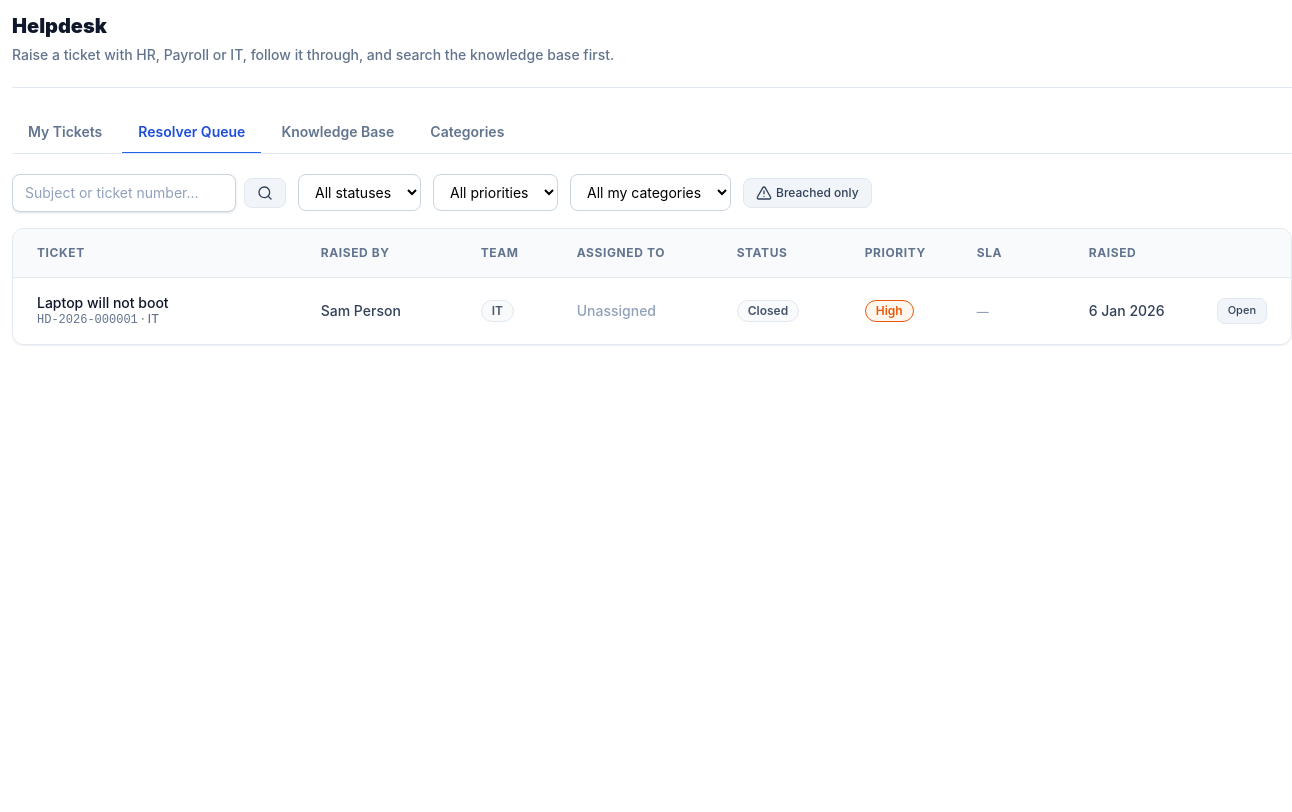
Test: the ticket detail › a closed ticket takes no more comments
Click the button "Open" at point(1242, 311), box [1217,298,1267,324]
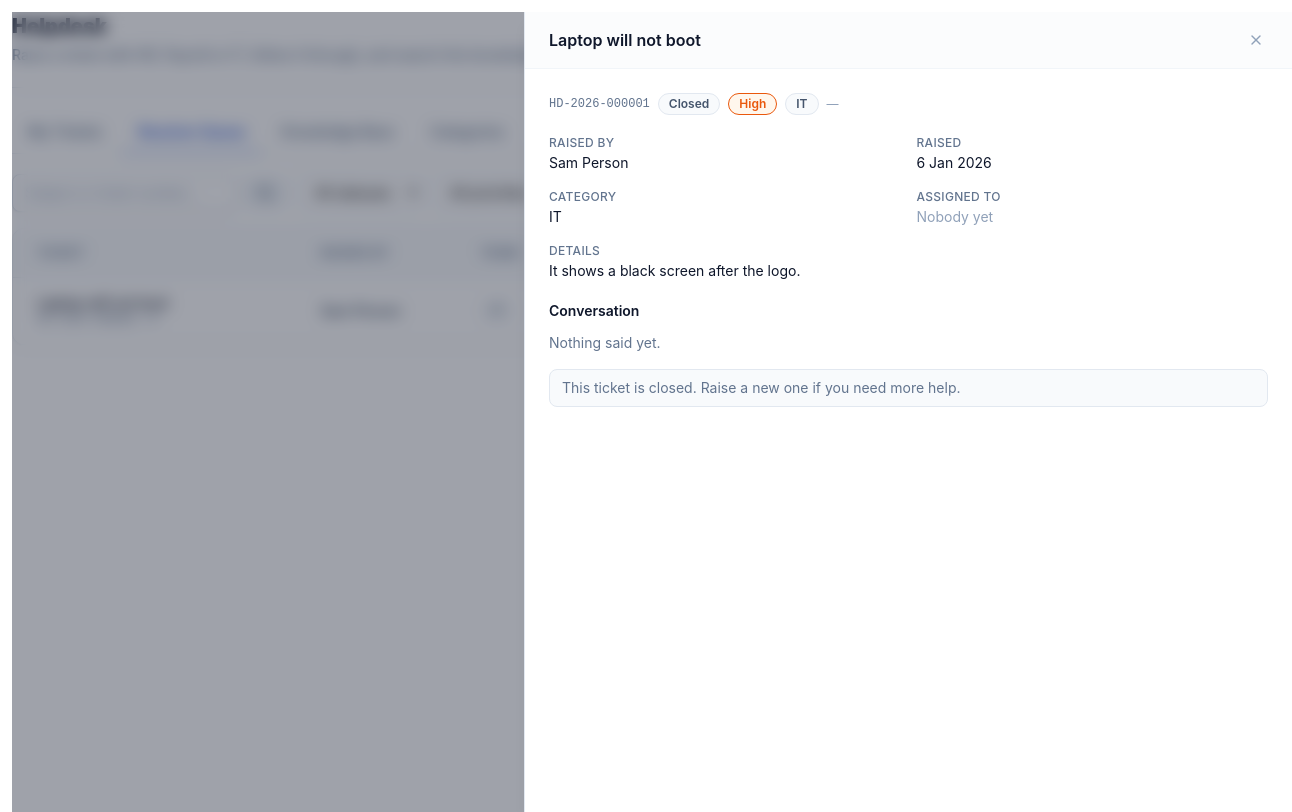
Expected: the text "This ticket is closed" is shown, [562,379,960,396]
